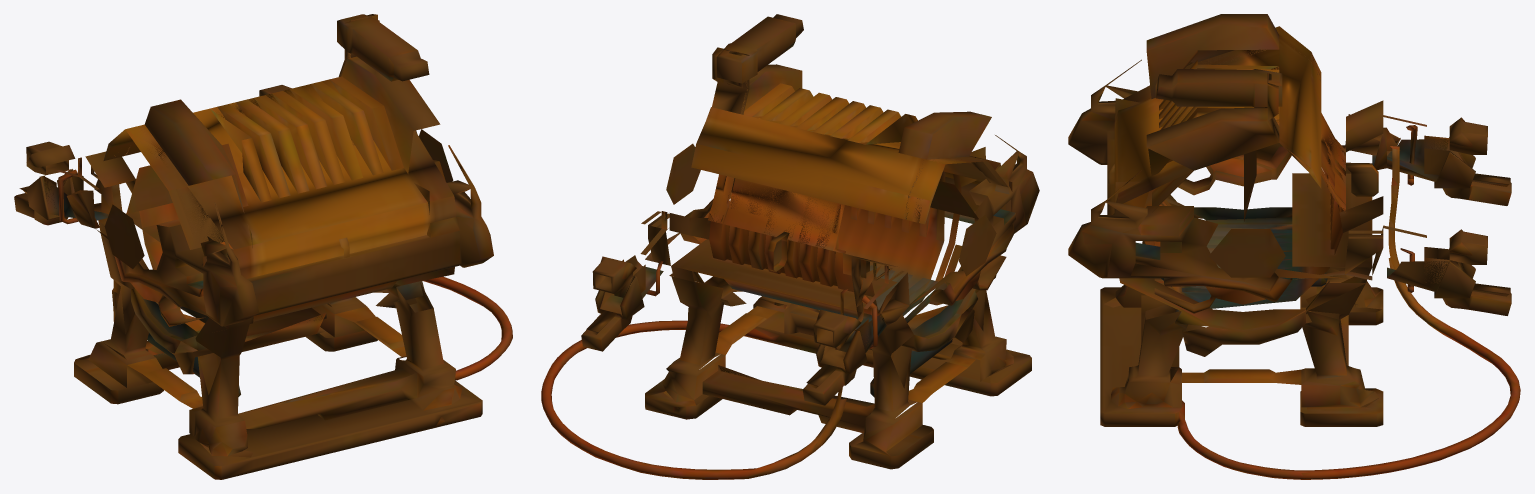
Rendered from winch_crawler.glb.
3 views of the same model, side by side, from view 1: azimuth 30°, elevation 25°; view 2: azimuth 150°, elevation 25°; view 3: azimuth 270°, elevation 25° (orthographic). The views are drawn at different scales.
Visible parts, largest first — view 1: base_model_path; view 2: base_model_path; view 3: base_model_path.
Boxes of the visible parts, box(x1,y1,x2,y2) form: base_model_path: box(14, 14, 512, 479); base_model_path: box(541, 14, 1039, 479); base_model_path: box(1068, 14, 1520, 479).
Bounding box in the file's own units: 0.9614 × 0.7854 × 0.9711.
1 material, 1 textured.
